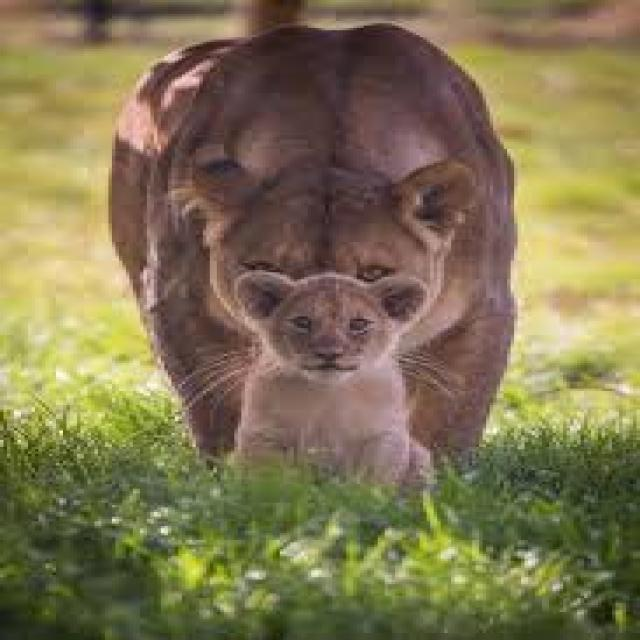Lion: (108, 23, 511, 482)
